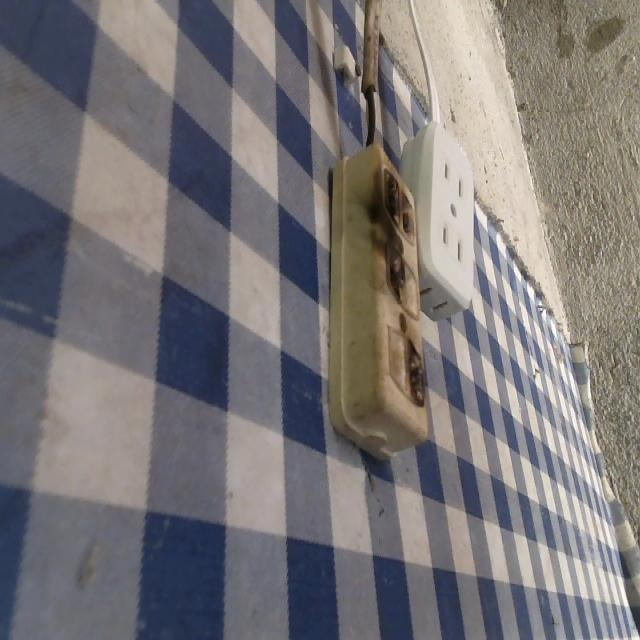-: (372, 232, 409, 311), (378, 166, 416, 242), (403, 334, 435, 406)
